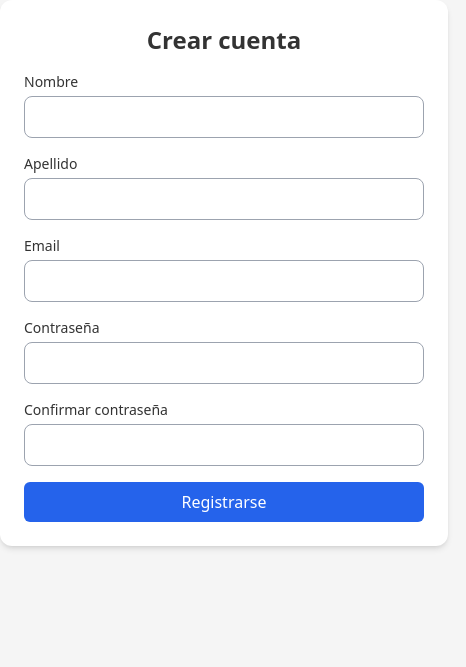
Scenario: RegisterForm › muestra errores de validación si se envía el formulario vacío
This screenshot has width=466, height=667.
Step 1. Click the button "Registrarse" → [224, 502], box [24,482,424,522]
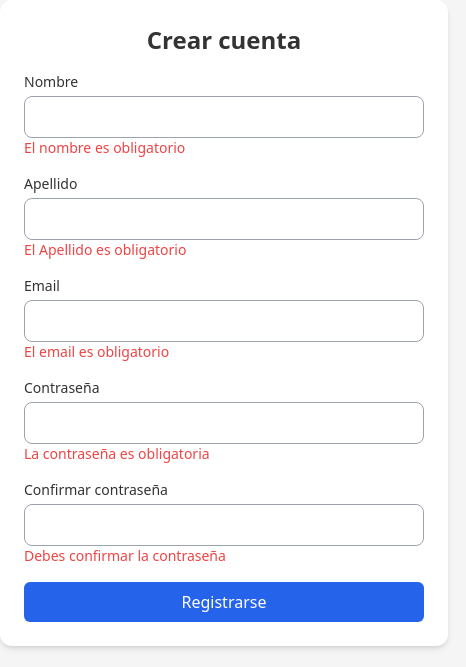
Result: the text "El nombre es obligatorio" is shown at [24,138,185,157]
Result: the text "El Apellido es obligatorio" is shown at [24,240,186,259]
Result: the text "El email es obligatorio" is shown at [24,342,169,361]
